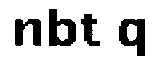b: (47, 4, 79, 49)
n: (12, 15, 43, 47)
q: (112, 14, 148, 60)
t: (81, 11, 101, 51)
